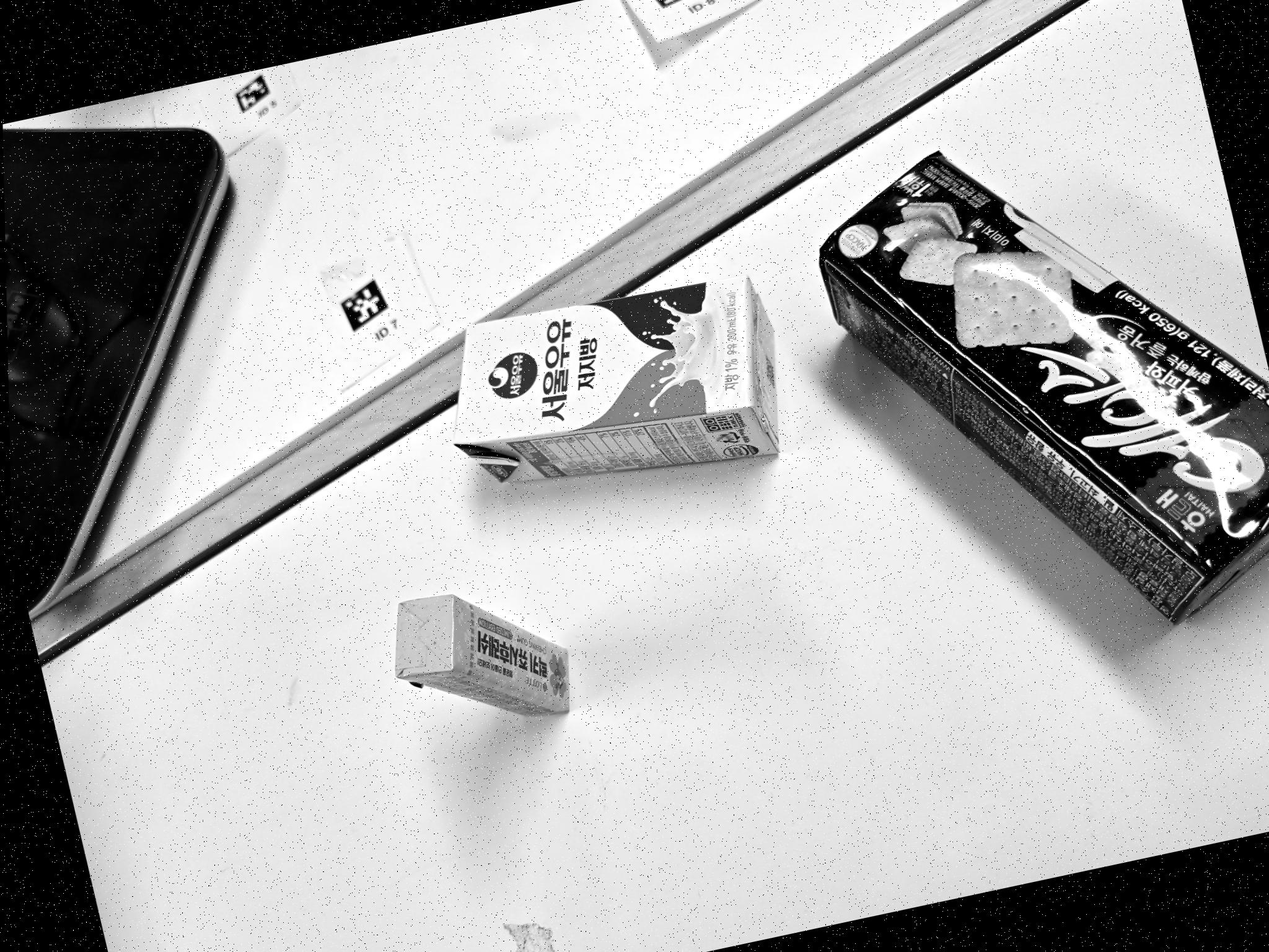cracker_ace: (820, 153, 1269, 621)
gum_yellow: (395, 595, 570, 716)
milk_blue: (454, 276, 778, 484)
